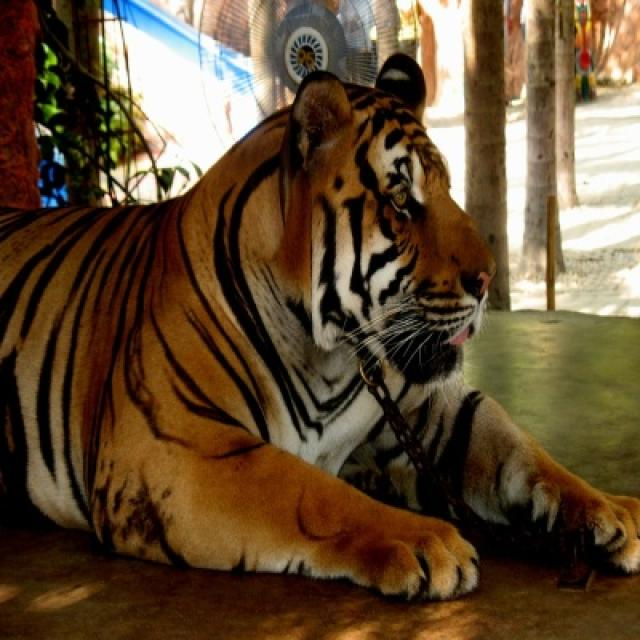Tiger: (0, 57, 638, 604)
